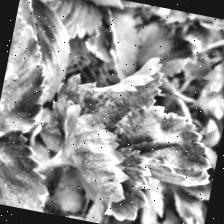Powdery Mildew Leaf: (45, 102, 165, 224), (45, 40, 169, 156), (75, 188, 119, 224)
